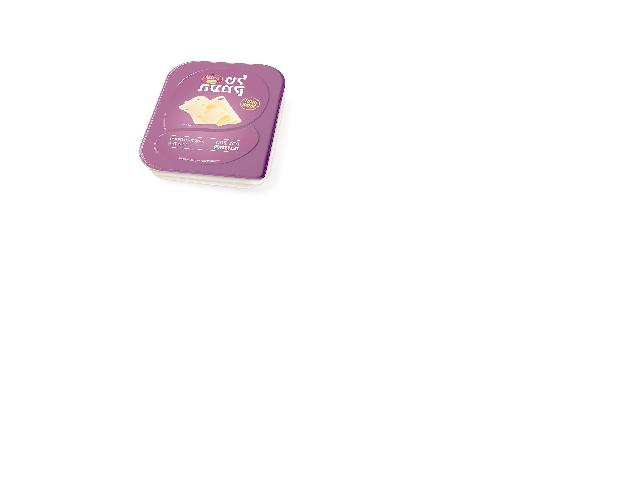cheese: (138, 59, 285, 187)
